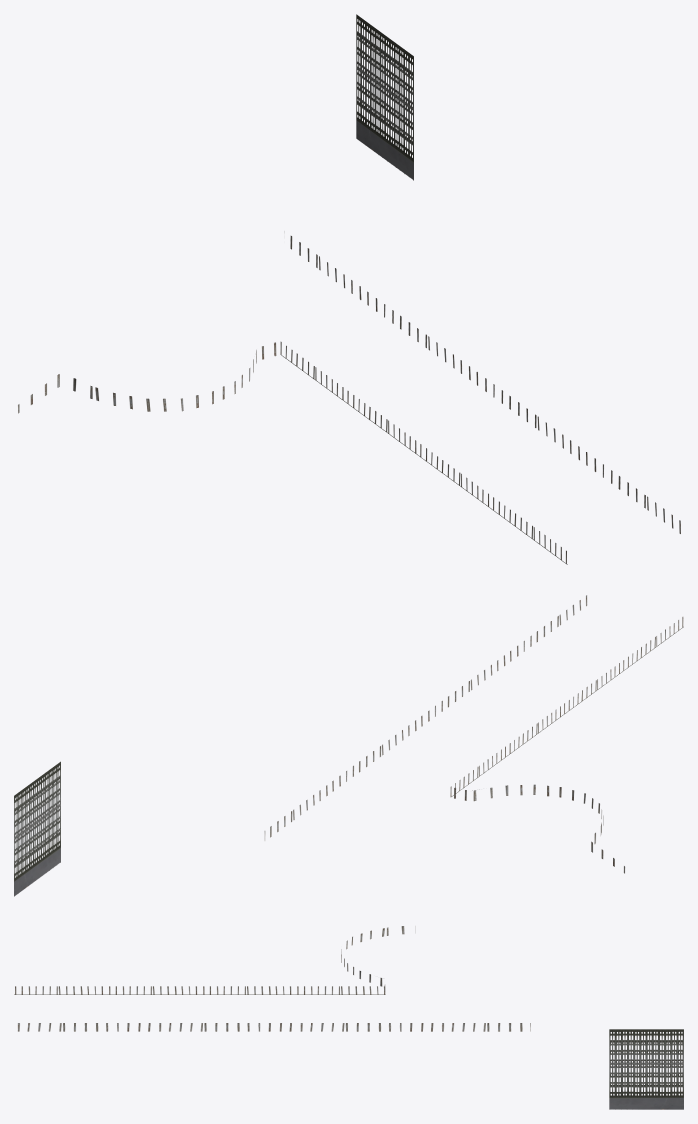
The model's file is part-polysurface455_khung_bonng_van_phong_doan_0.glb.
The picture shows the model from 3 angles, top to bottom: view 1: azimuth 30°, elevation 25°; view 2: azimuth 150°, elevation 25°; view 3: azimuth 270°, elevation 25°; orthographic projection. The views are drawn at different scales.
Parts seen in each view (by area): view 1: polySurface455; view 2: polySurface455; view 3: polySurface455.
Boxes of the visible parts, x1=… form: polySurface455: x1=18, y1=14, x2=680, y2=564; polySurface455: x1=14, y1=595, x2=683, y2=896; polySurface455: x1=14, y1=926, x2=683, y2=1109.
Size of the model in its own units: 56.61 by 12.26 by 92.51.
Materials: 1 (1 with a texture image).
